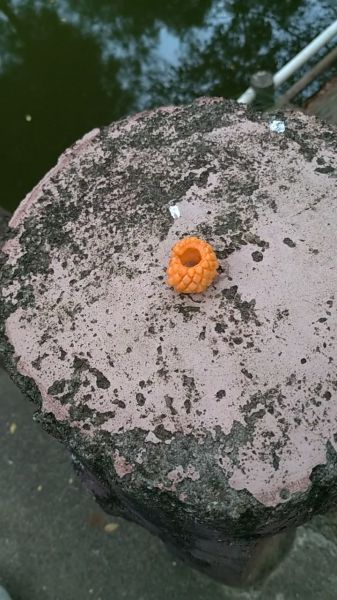eggs: (163, 231, 220, 295)
